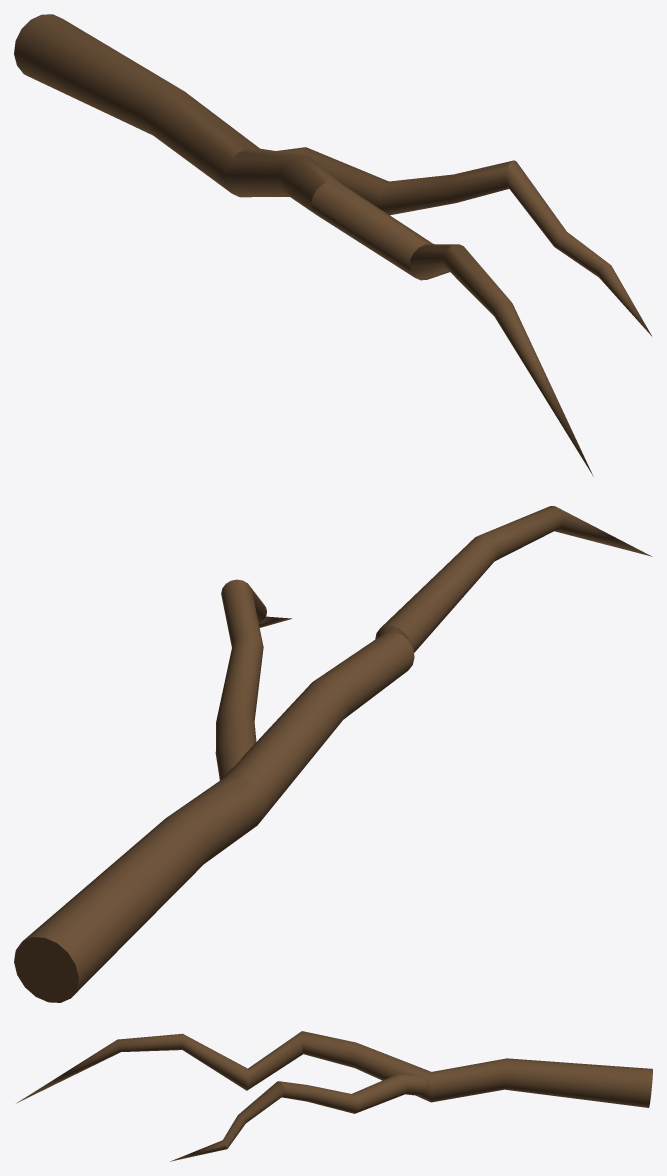
The model's file is Sm_Branches2L.fbx.
The picture shows the model from 3 angles, top to bottom: view 1: azimuth 30°, elevation 25°; view 2: azimuth 150°, elevation 25°; view 3: azimuth 270°, elevation 25°; orthographic projection. The views are drawn at different scales.
Parts seen in each view (by area): view 1: Sm_Branches2L; view 2: Sm_Branches2L; view 3: Sm_Branches2L.
Boxes of the visible parts, x1,y1,x2,y2 form: Sm_Branches2L: (14, 14, 651, 476); Sm_Branches2L: (14, 506, 652, 1002); Sm_Branches2L: (16, 1031, 652, 1161).
Bounding box in the file's own units: 42.33 × 22.39 × 173.
